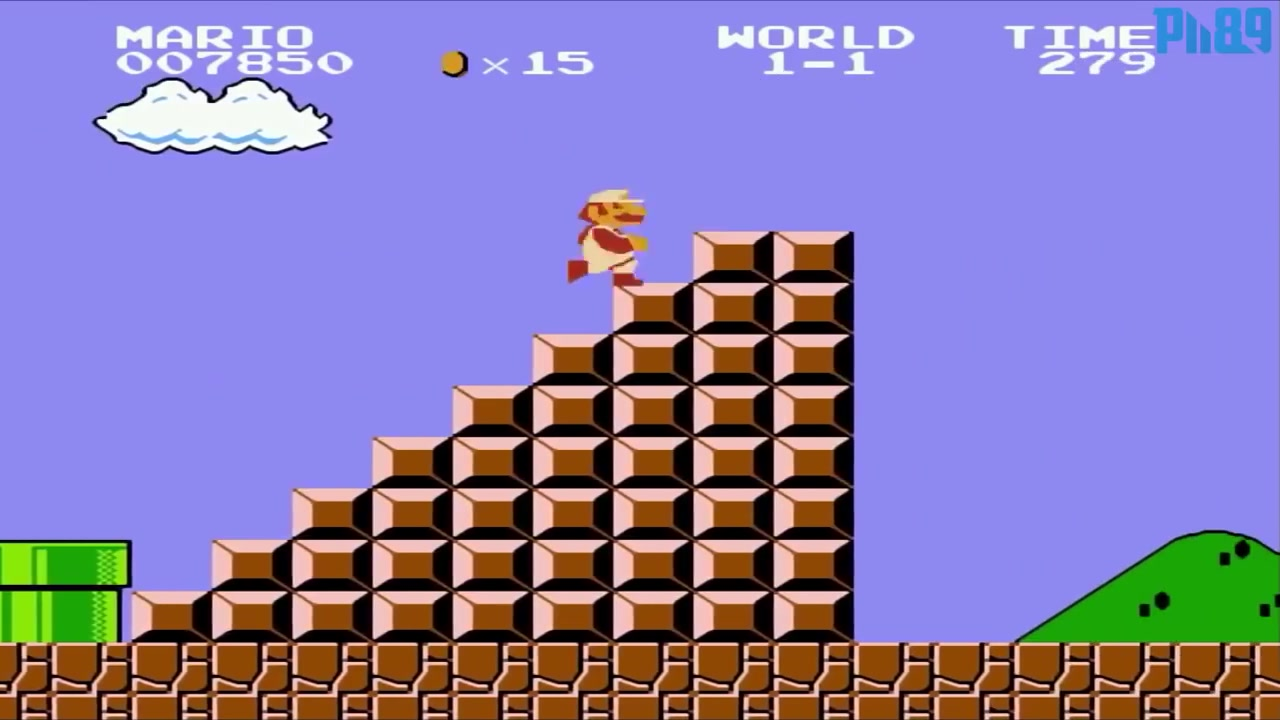mario: (550, 163, 650, 294)
